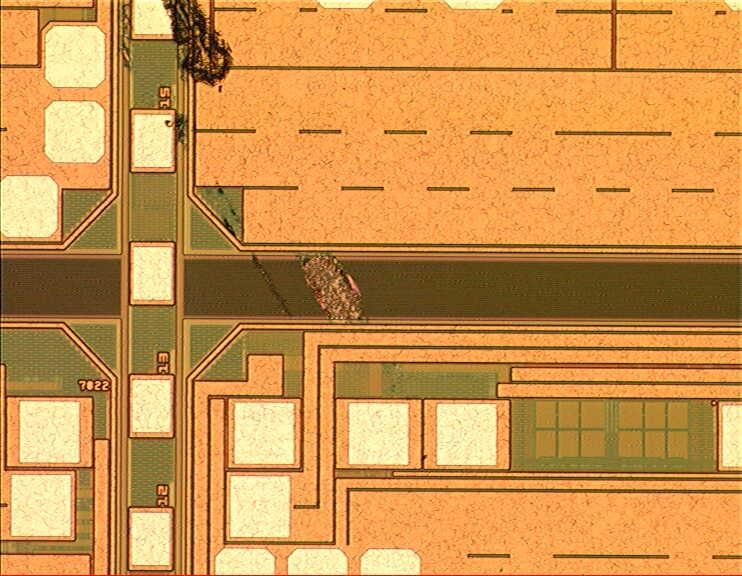SCRATCH: (160, 1, 373, 342)
